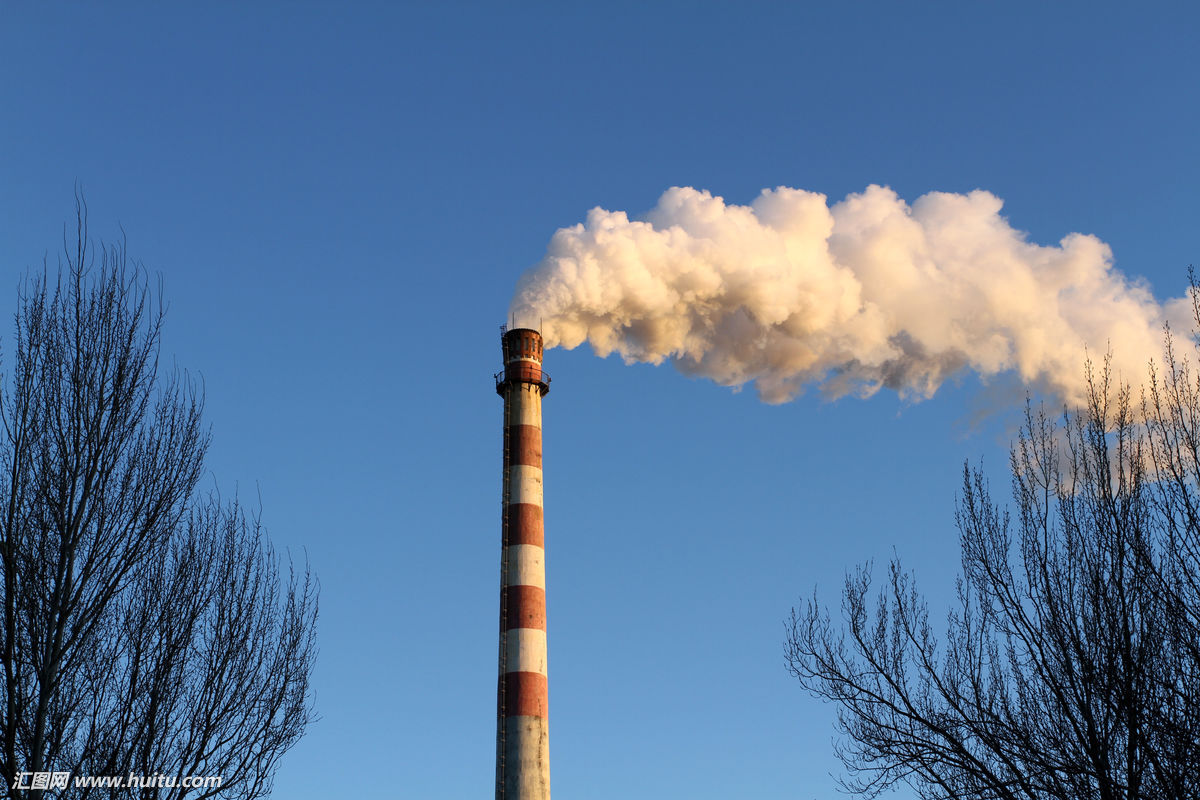dust: (483, 184, 1019, 383)
